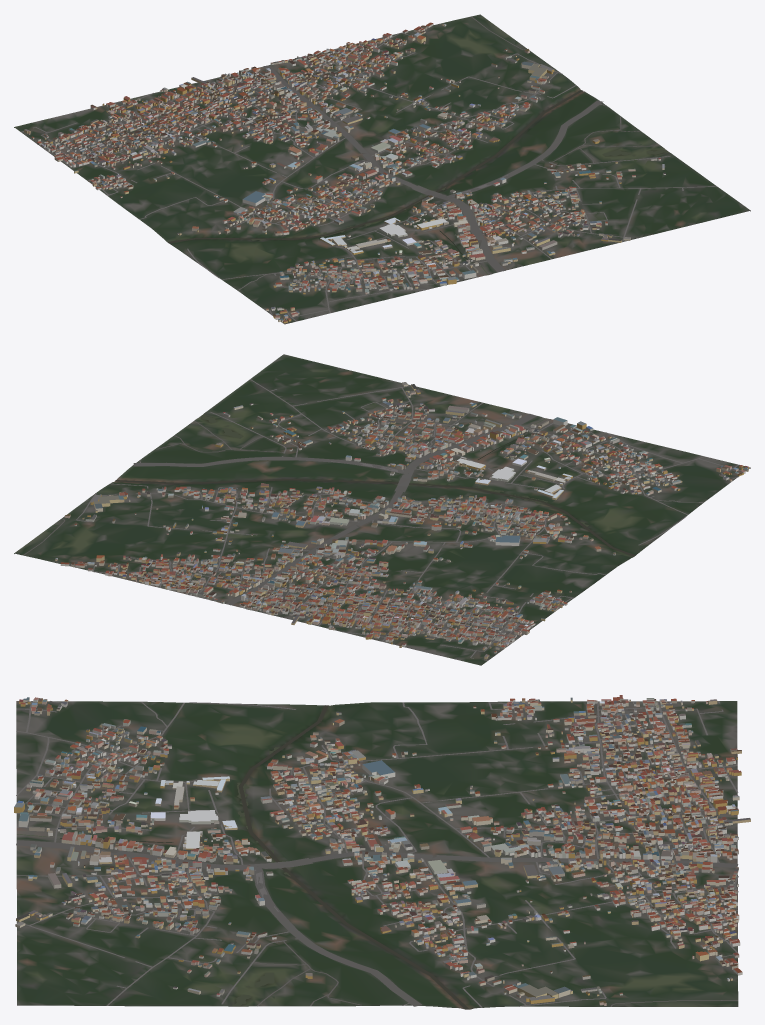
3 views of the same model, one above another, from view 1: azimuth 30°, elevation 25°; view 2: azimuth 150°, elevation 25°; view 3: azimuth 270°, elevation 25° (orthographic). The views are drawn at different scales.
Parts seen in each view (by area): view 1: ground, buildings, roads, water; view 2: ground, buildings, roads, water; view 3: ground, buildings, roads, water.
Boxes of the visible parts, x1,y1,x2,y2 form: ground: (14, 14, 750, 324); buildings: (24, 22, 665, 323); roads: (21, 16, 716, 321); water: (168, 90, 668, 274); ground: (14, 354, 750, 665); buildings: (55, 382, 748, 659); roads: (23, 379, 740, 660); water: (115, 414, 635, 556); ground: (16, 701, 738, 1009); buildings: (14, 695, 750, 1005); roads: (16, 701, 738, 1007); water: (16, 705, 468, 1009).
Bounding box in the file's own units: 1412 × 27.08 × 1433.
